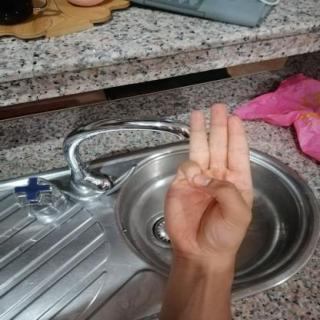THA: (154, 97, 262, 261)
